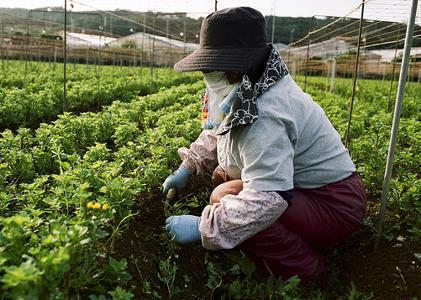person: (158, 4, 371, 286)
